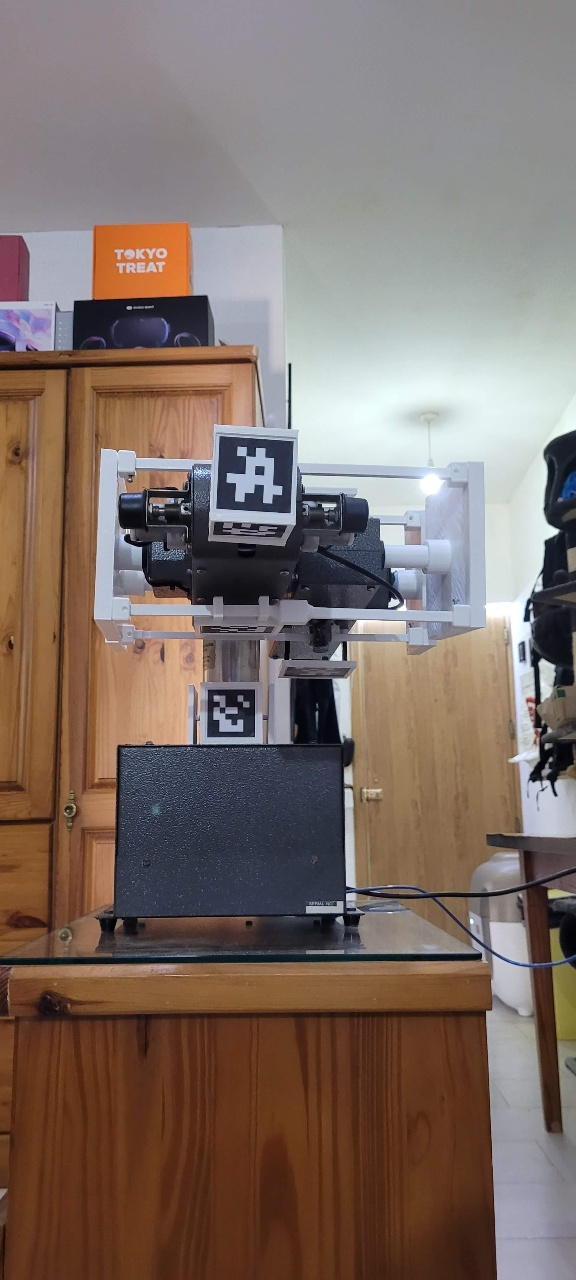Robot: (44, 198, 476, 1175)
